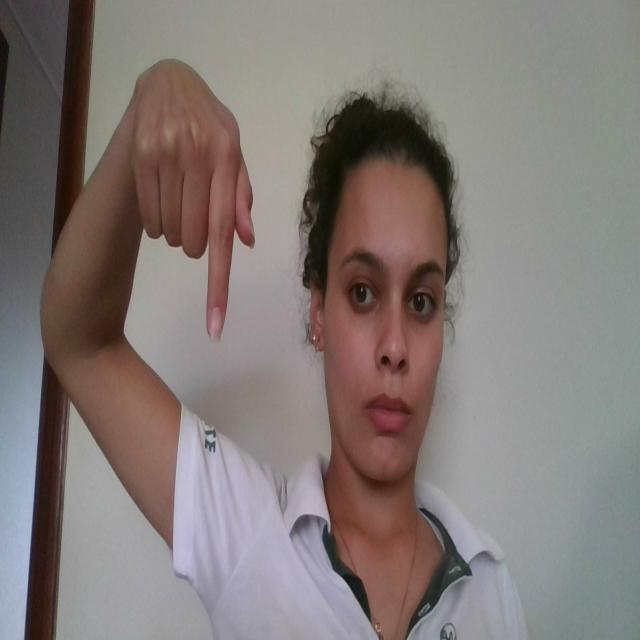Q: (135, 62, 255, 350)
